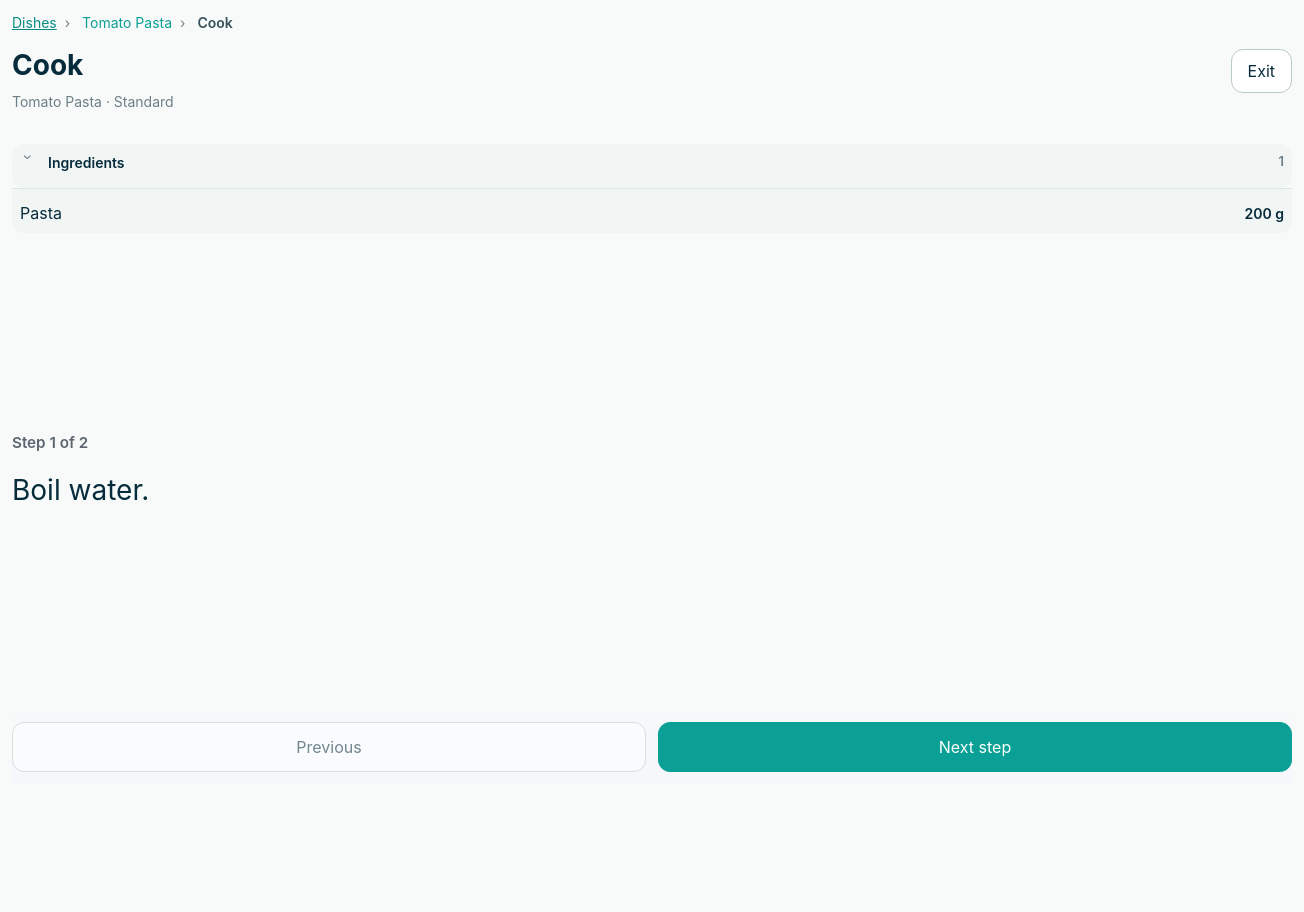
Test: RecipeCookingPage › navigates next and previous through steps
The image size is (1304, 912).
Expected: the text "Boil water." is shown, [12,473,149,507]
Expected: the button "Previous" is disabled, [12,722,646,772]
Click the button "Next step" at (975, 747), box [658,722,1292,772]
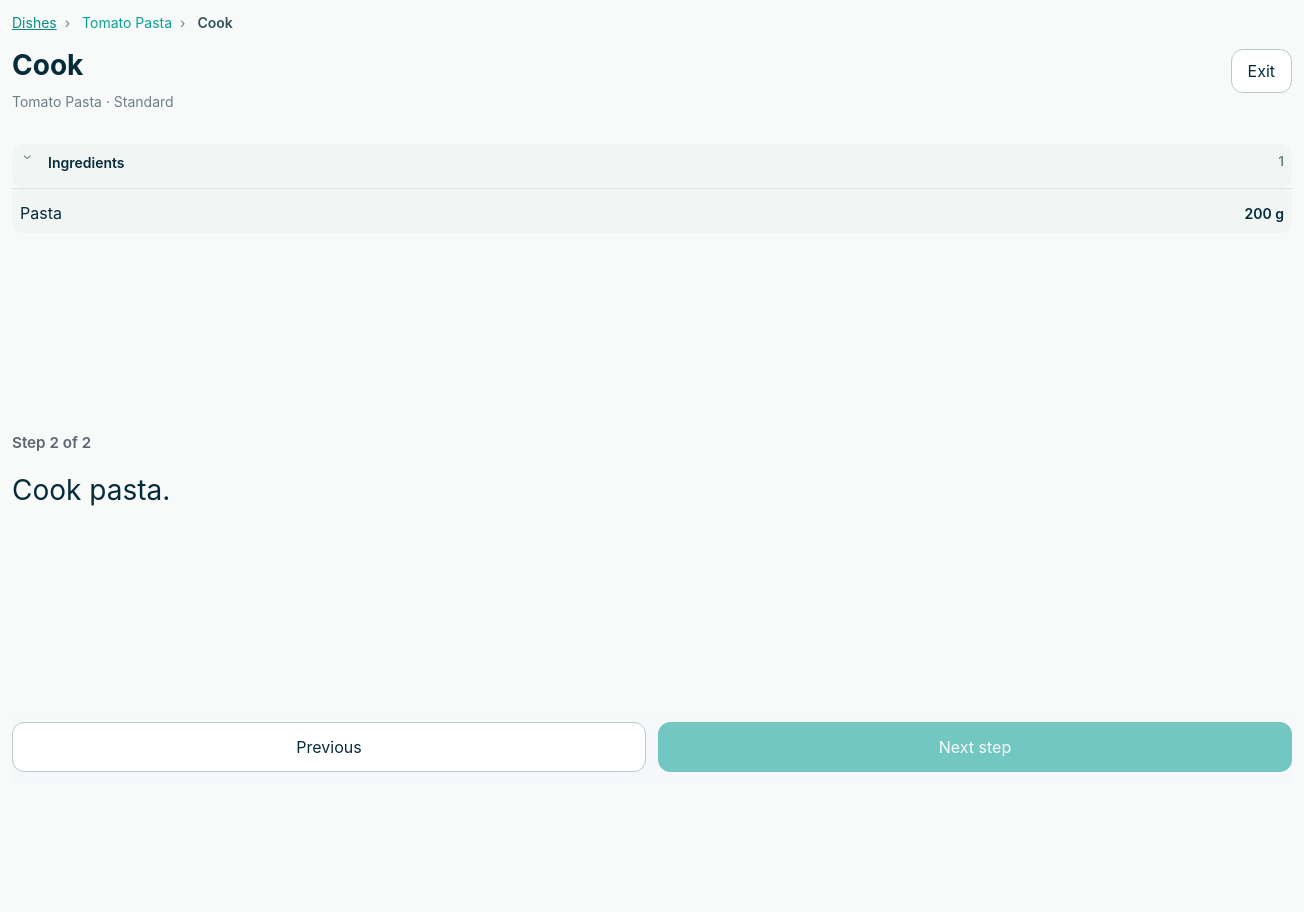
Now the text "Step 2 of 2" is shown, box [12,433,91,452]
Now the text "Cook pasta." is shown, box [12,473,170,507]
Now the button "Next step" is disabled, box [658,722,1292,772]
Click the button "Previous" at (329, 747), box [12,722,646,772]
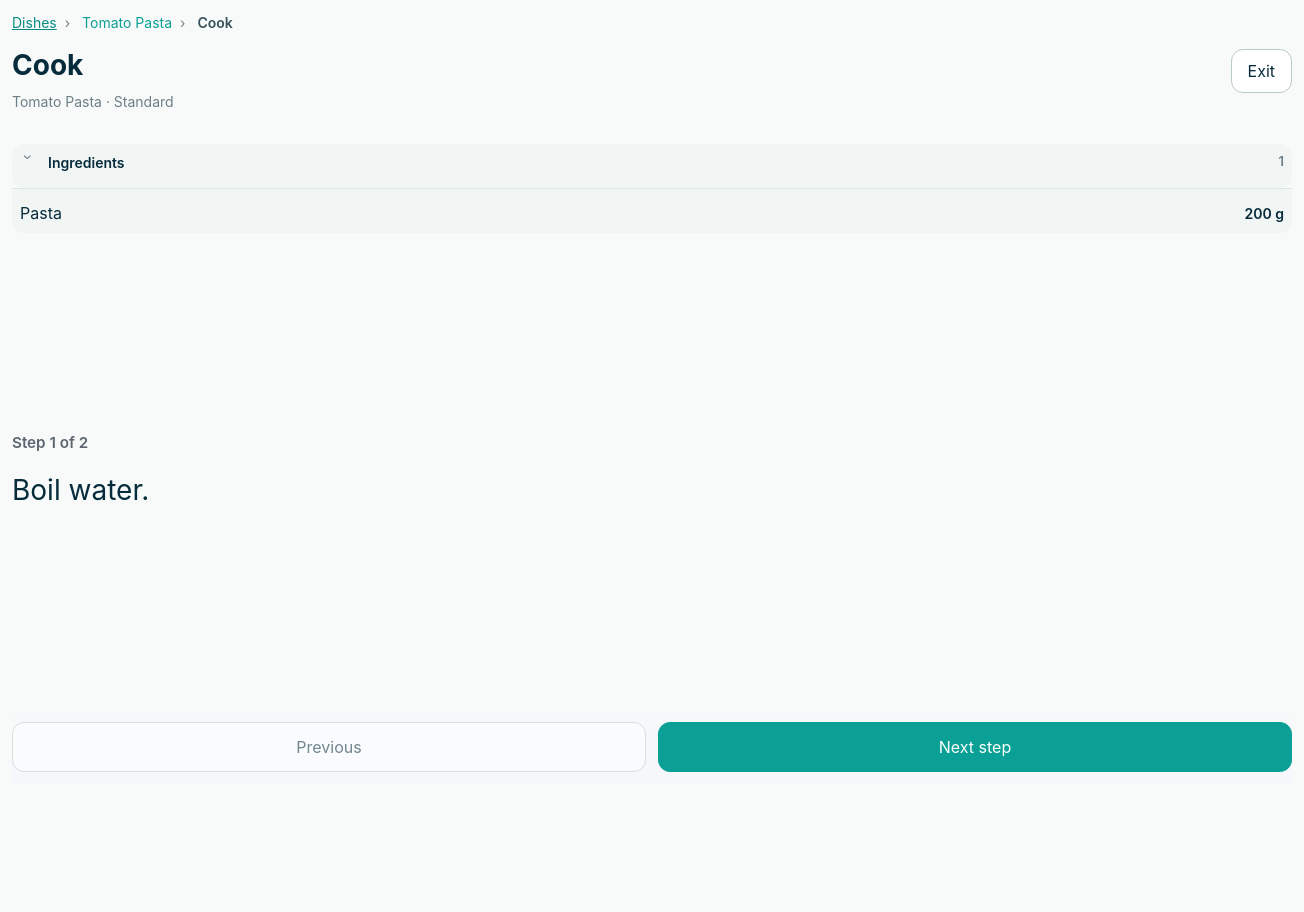
Now the text "Step 1 of 2" is shown, box [12,433,88,452]
